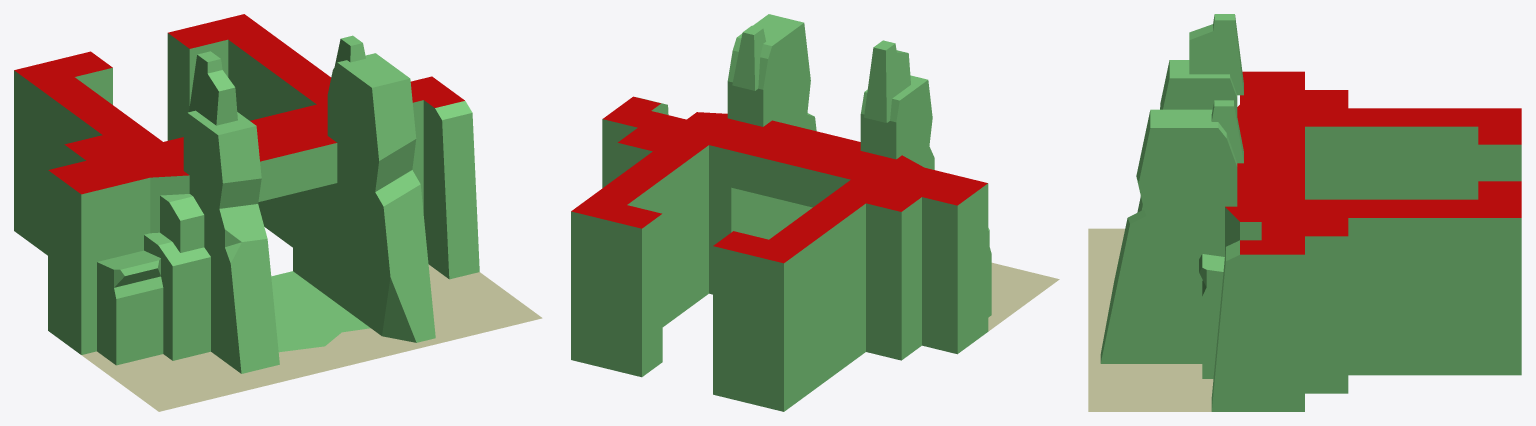
The model's file is x_oo_ground_36_cave_entrance1_rmstrd.fbx.
3 views of the same model, side by side, from view 1: azimuth 30°, elevation 25°; view 2: azimuth 150°, elevation 25°; view 3: azimuth 270°, elevation 25° (orthographic). The views are drawn at different scales.
Parts seen in each view (by area): view 1: x_oo_ground_36_cave_entrance1_rmstrd1; view 2: x_oo_ground_36_cave_entrance1_rmstrd1; view 3: x_oo_ground_36_cave_entrance1_rmstrd1.
Part boxes in pixels (x1,y1,x2,y2): x_oo_ground_36_cave_entrance1_rmstrd1: (14, 14, 542, 411); x_oo_ground_36_cave_entrance1_rmstrd1: (571, 14, 1059, 411); x_oo_ground_36_cave_entrance1_rmstrd1: (1088, 14, 1521, 411).
Size of the model in its own units: 10 by 6.84 by 10.
